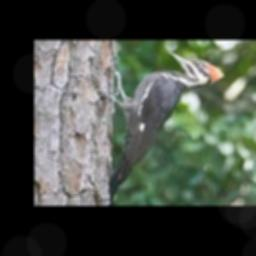Woodpecker: (107, 51, 225, 204)
